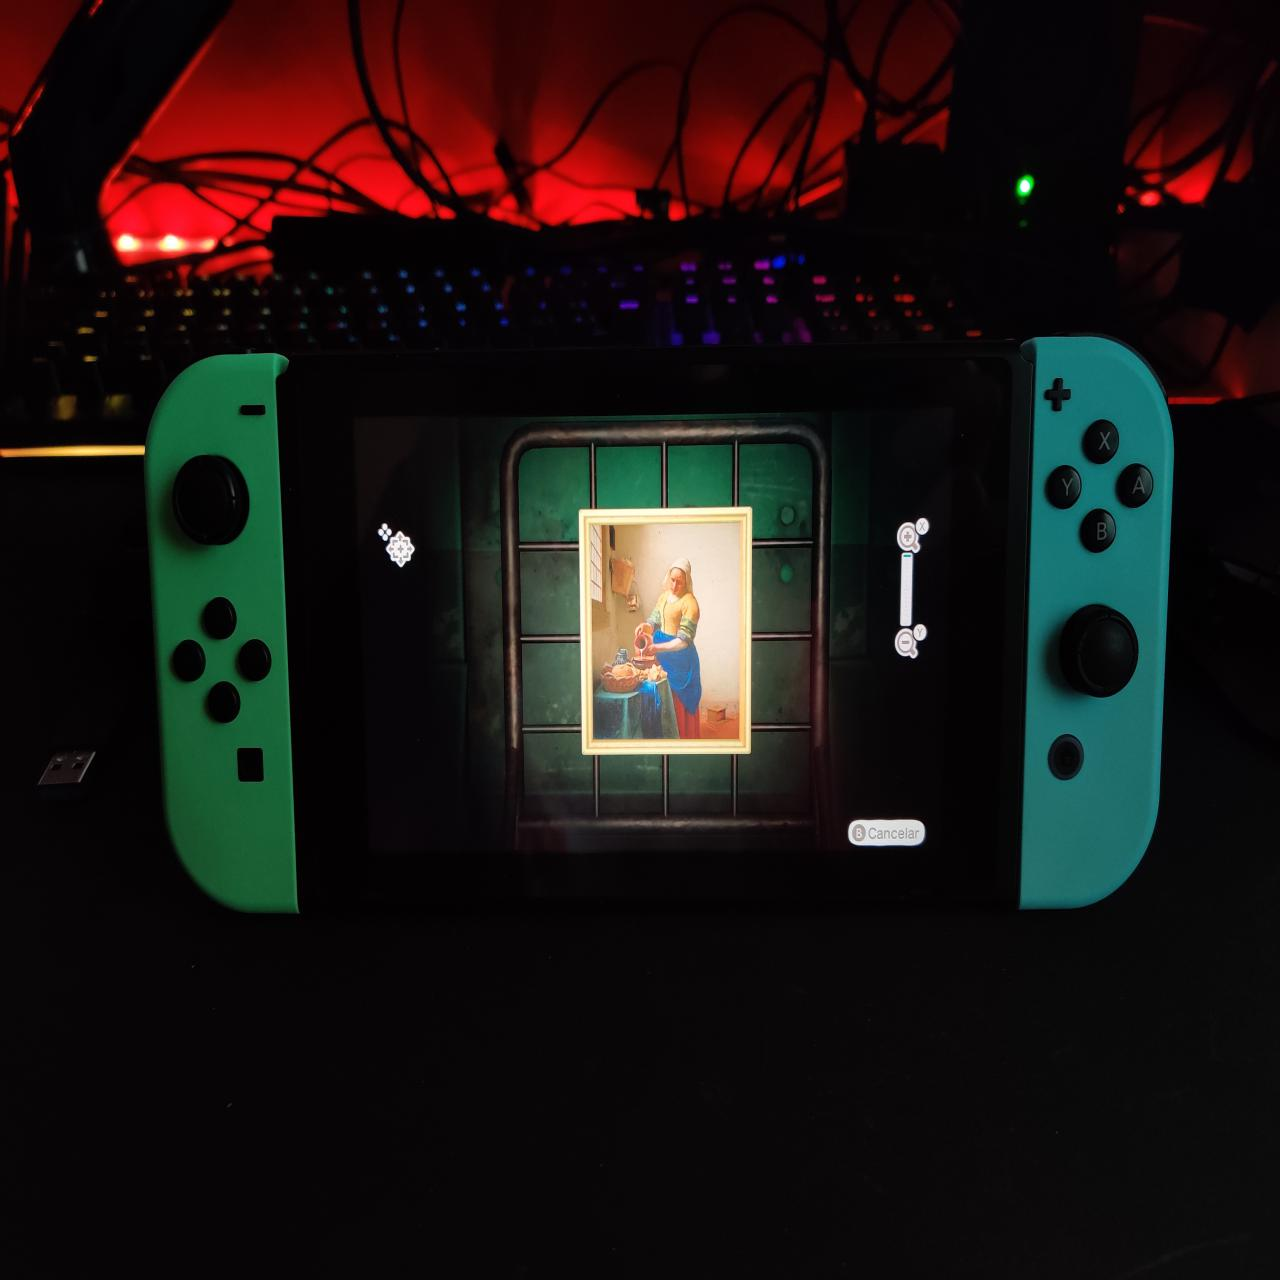Milkmaid: (590, 526, 743, 741)
